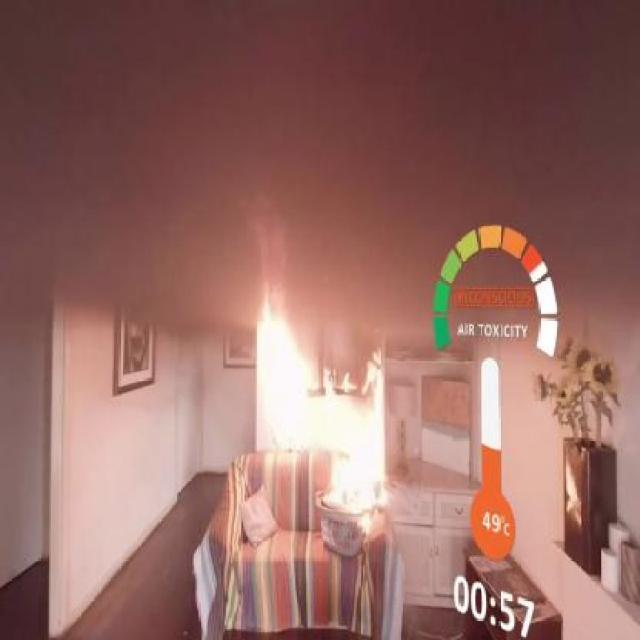fire: (262, 294, 392, 554)
smoke: (90, 22, 422, 278)
